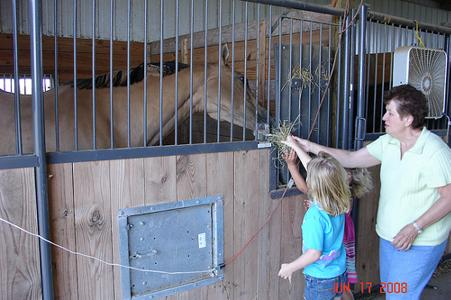person: (281, 133, 347, 300)
